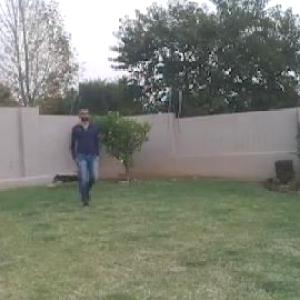follow: (72, 106, 101, 206)
